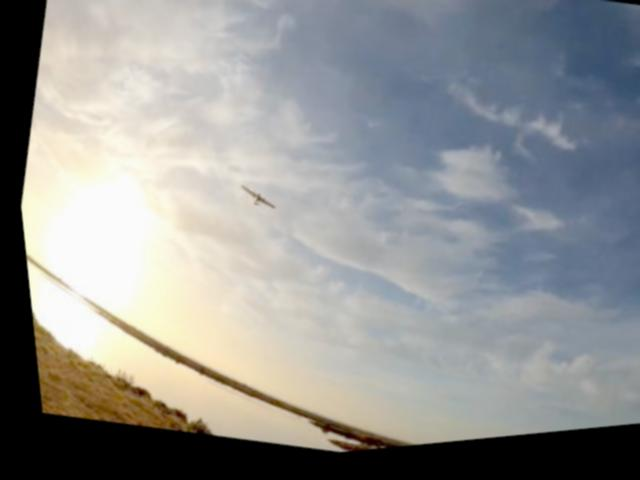uav: (229, 180, 277, 220)
